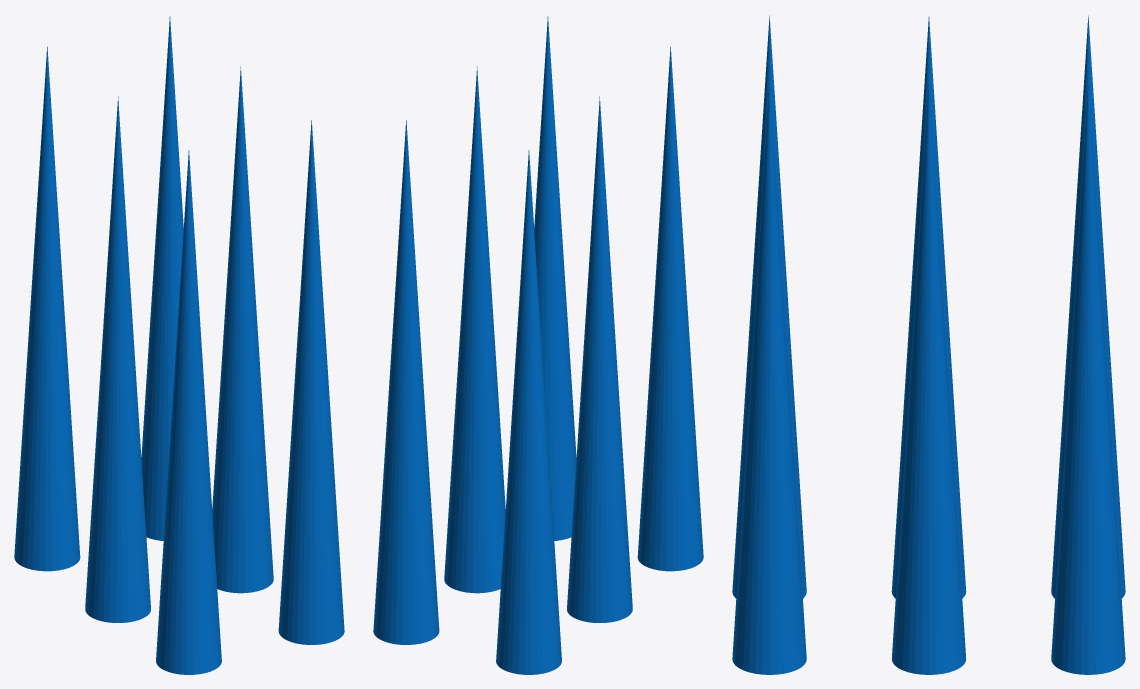
Rendered from Nidle.gltf.
3 renders of one model, left to right at view 1: azimuth 30°, elevation 25°; view 2: azimuth 150°, elevation 25°; view 3: azimuth 270°, elevation 25°, orthographic. The views are drawn at different scales.
Parts seen in each view (by area): view 1: 円錐; view 2: 円錐; view 3: 円錐.
Boxes of the visible parts, <box> form: 円錐: <box>14,16,344,674</box>; 円錐: <box>373,16,703,674</box>; 円錐: <box>732,15,1125,674</box>.
Size of the model in its own units: 0.7335 by 2 by 1.23.
